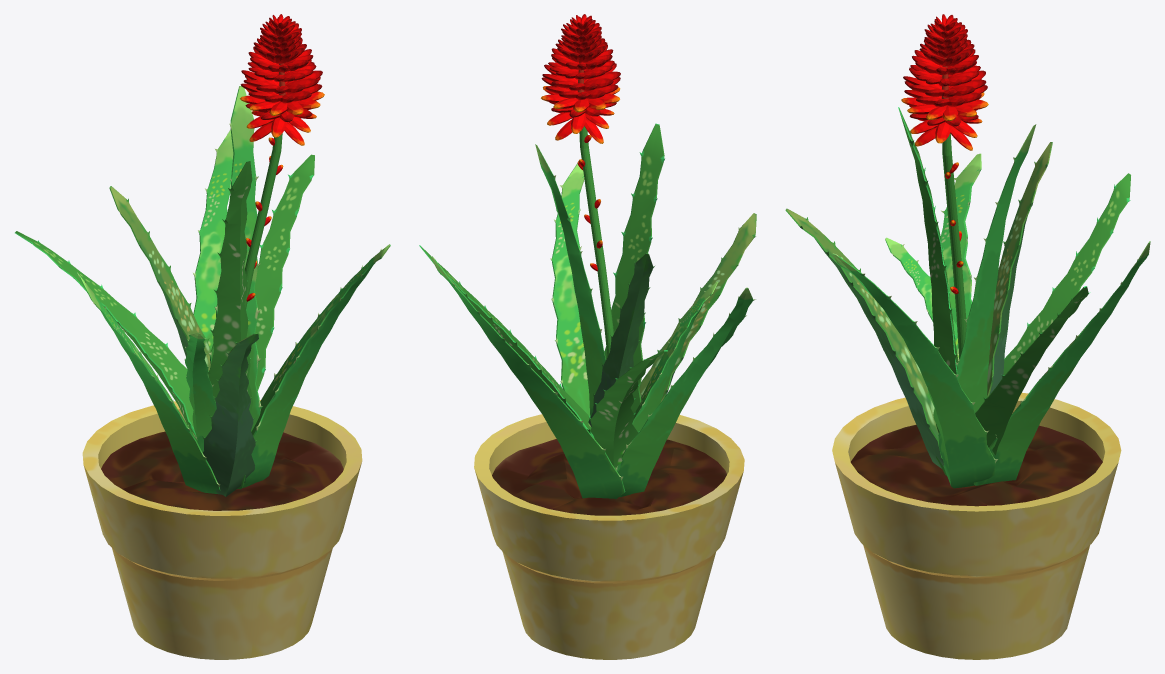
File: aloevera_perfect.glb
3 views of the same model, side by side, from view 1: azimuth 30°, elevation 25°; view 2: azimuth 150°, elevation 25°; view 3: azimuth 270°, elevation 25° (orthographic). The views are drawn at different scales.
Parts seen in each view (by area): view 1: Plant, Pot; view 2: Plant, Pot; view 3: Plant, Pot.
Boxes of the visible parts, x1,y1,x2,y2 form: Plant: (15,14,390,496); Pot: (82,400,362,659); Plant: (419,14,756,498); Pot: (474,414,744,659); Plant: (785,14,1150,488); Pot: (832,392,1121,659).
Size of the model in its own units: 2.43 by 4.88 by 2.59.
7 materials, 7 textured.
